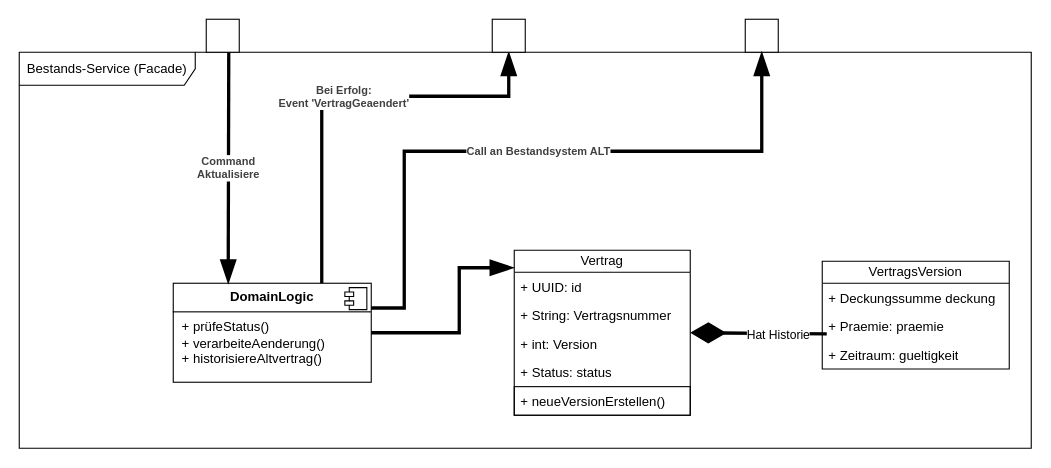
Some shapes in this 1051 by 468 pixel diagram are drawn without their labels. Each missing label, with the centre of its shape:
"Command / Antrags-Service" belongs at point 222,35.
"Event Broker (Kafka)" belongs at point 508,35.
"Legacy Calls" belongs at point 761,35.
